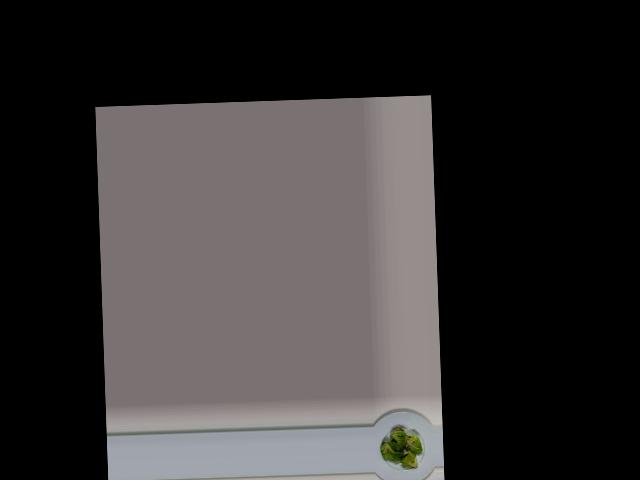lettuce: (376, 426, 422, 470)
